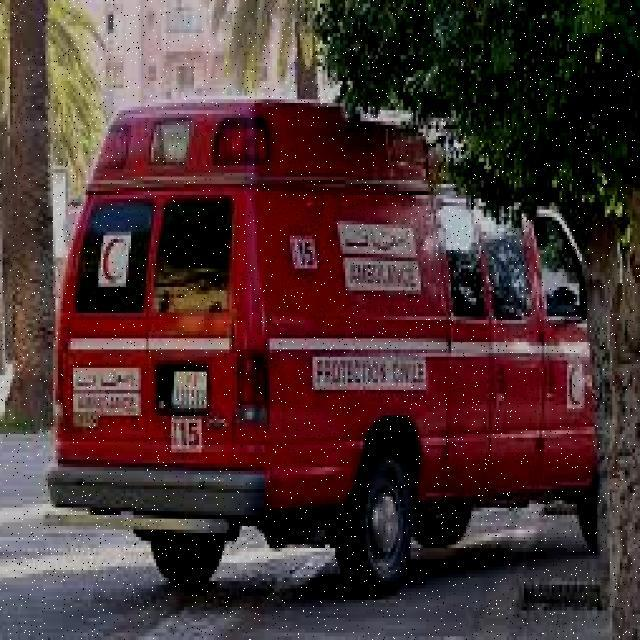ambulance: (43, 87, 617, 595)
